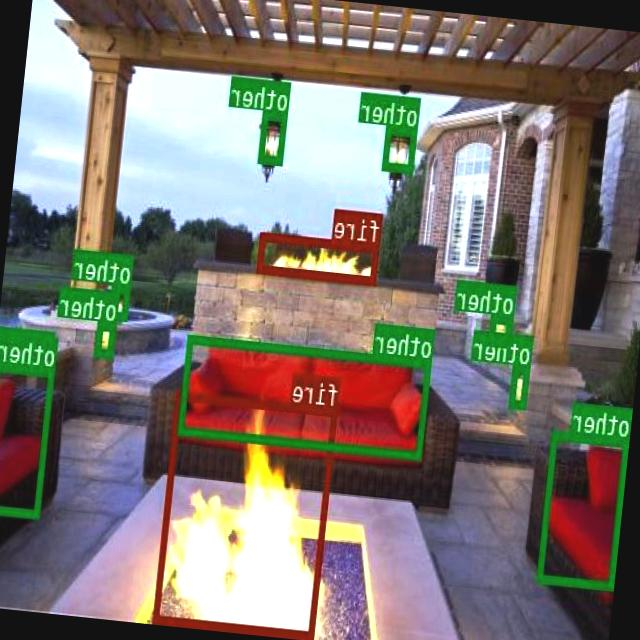fire: (155, 392, 338, 638), (257, 232, 380, 284)
